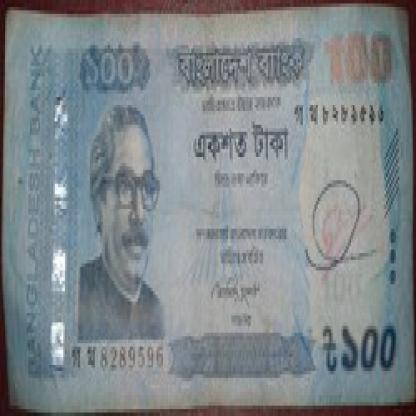one hundred taka: (321, 28, 398, 97), (340, 312, 404, 381), (83, 42, 143, 97)
